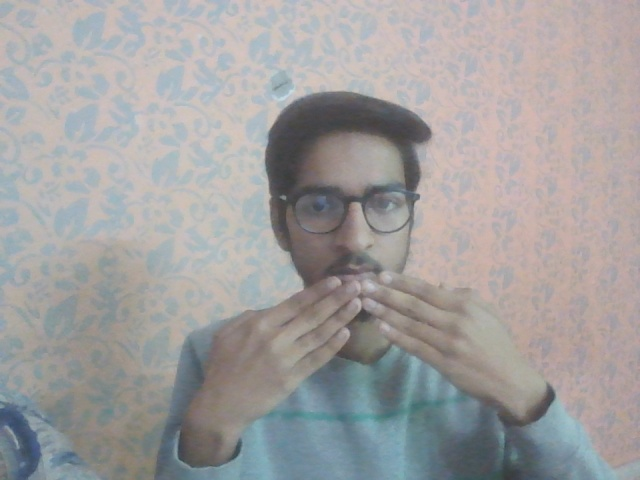ThankYou: (184, 270, 536, 428)
